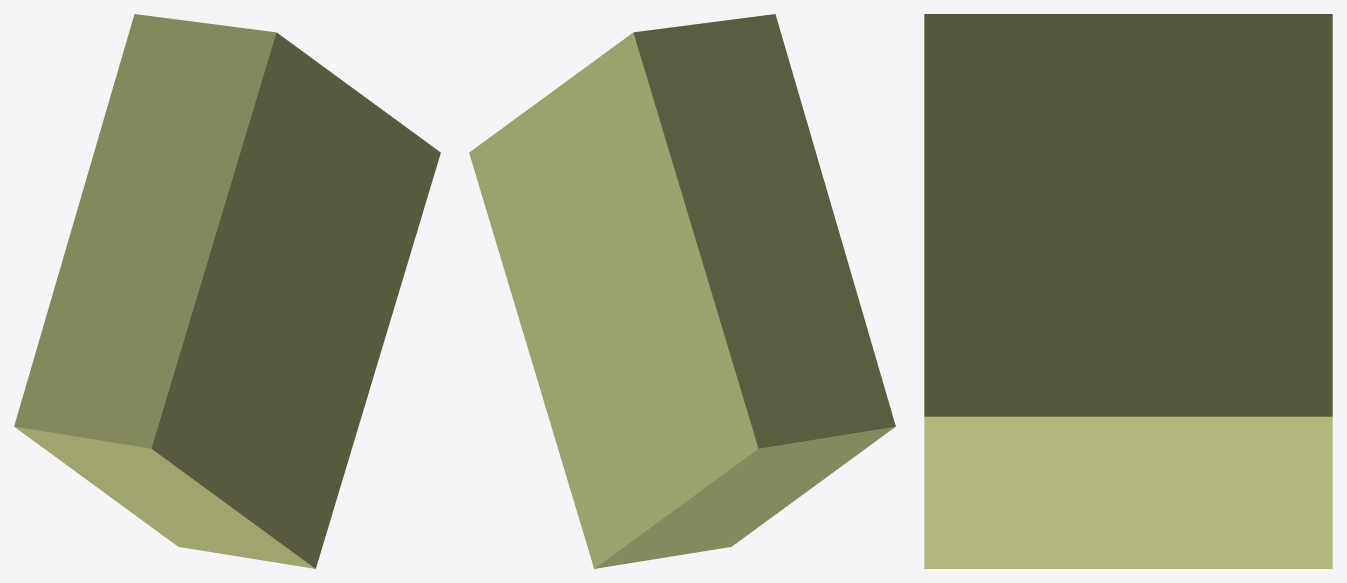
3 views of the same model, side by side, from view 1: azimuth 30°, elevation 25°; view 2: azimuth 150°, elevation 25°; view 3: azimuth 270°, elevation 25° (orthographic). The views are drawn at different scales.
Visible parts, largest first — view 1: 0_1_0_0_2_1_0_3_1_3; view 2: 0_1_0_0_2_1_0_3_1_3; view 3: 0_1_0_0_2_1_0_3_1_3.
Part boxes in pixels (x1=…): 0_1_0_0_2_1_0_3_1_3: x1=14, y1=14, x2=440, y2=568; 0_1_0_0_2_1_0_3_1_3: x1=469, y1=14, x2=895, y2=568; 0_1_0_0_2_1_0_3_1_3: x1=924, y1=14, x2=1332, y2=568.
Bounding box in the file's own units: 5.53 × 8.84 × 6.
